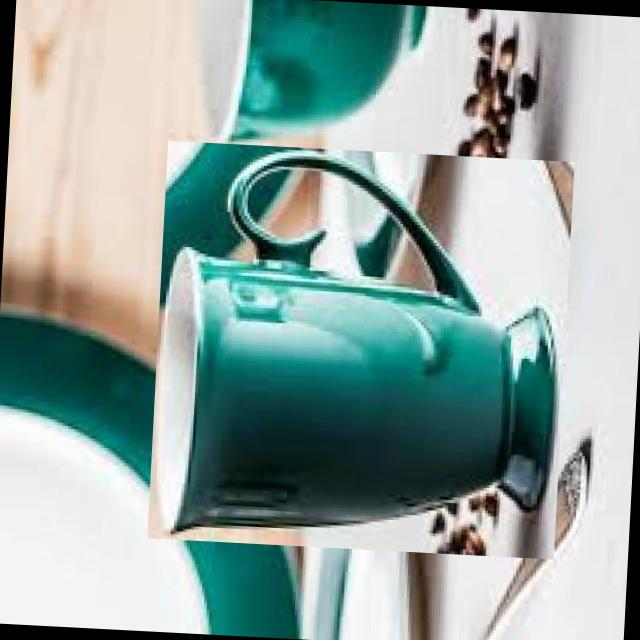Coffee Mug: (148, 143, 564, 551)
